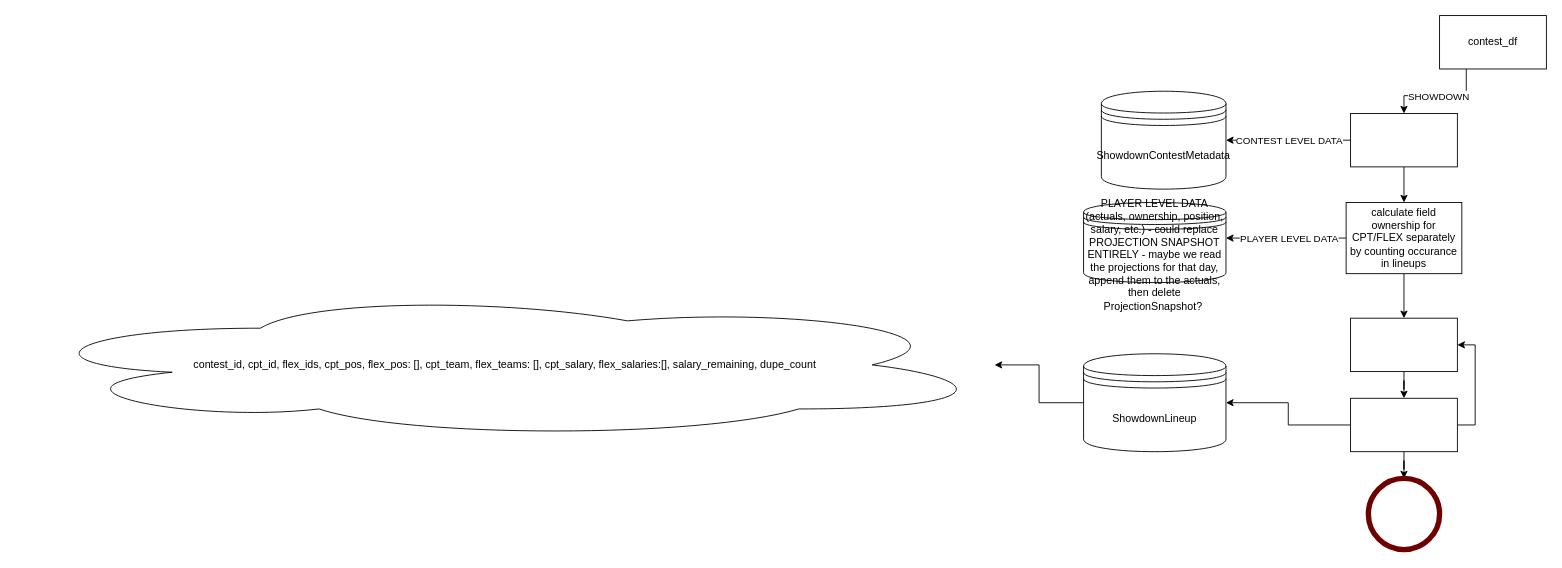
The diagram is 1562 pixels wide and 568 high, and some of its shapes have lost their labels. Here are the shapes that lost their labels. From the top down, the centre of each, then its label:
At point 1403,140: "anything for phase 1 model (contest level)".
At point 1403,344: "for unique lineup in contest:".
At point 1403,424: "get ownerships/salaries for lineups".
